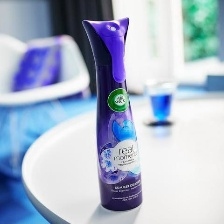aerosol_cans: (74, 8, 147, 216)
